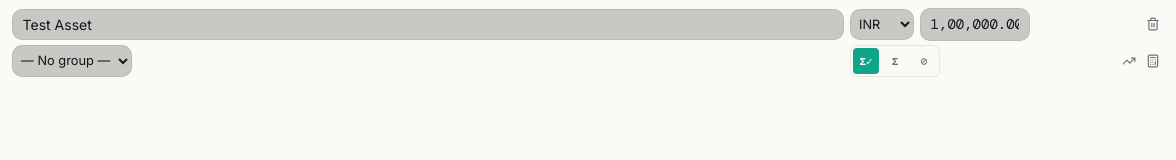
Scenario: LineItemRow › sub-category group picker › shows a "using existing" hint when the typed name matches a group case-insensitively
Select "+ New group…" in the dropdown named "Group for Test Asset". click: (72, 61)
box: [12,45,132,77]
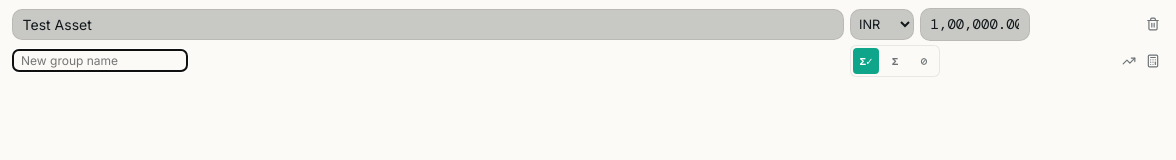
Type "mutual funds" into the field with placeholder "New group name". click: (100, 61)
box: [12,49,188,72]
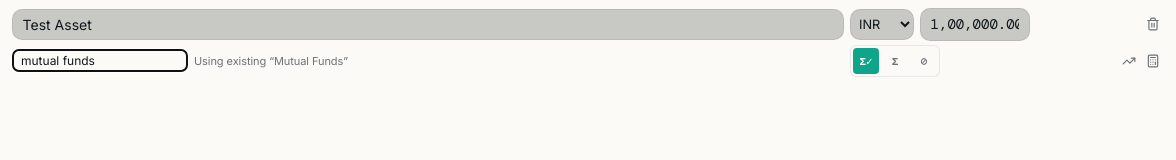
Now the text "Using existing “Mutual Funds”" is shown, box [194,52,348,69]
